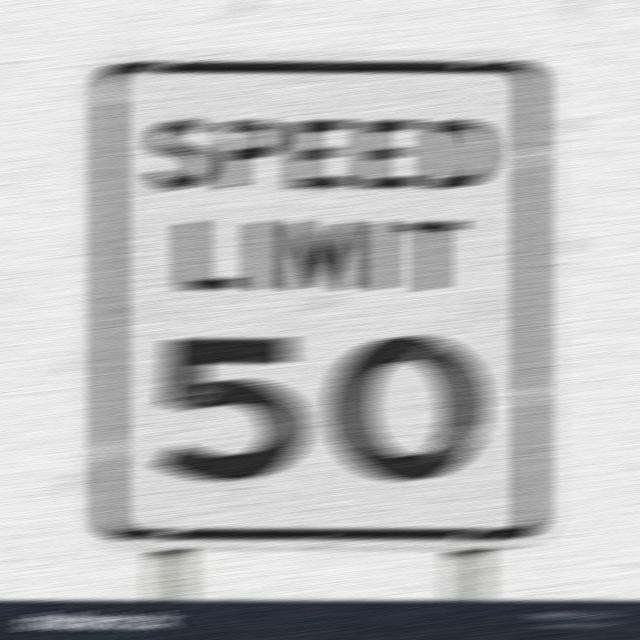speedLimit50: (71, 43, 556, 561)
